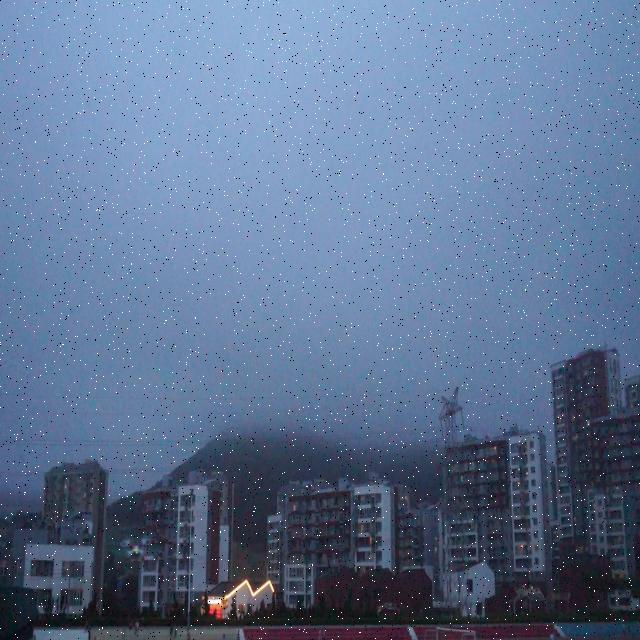UAV: (120, 536, 151, 562)
